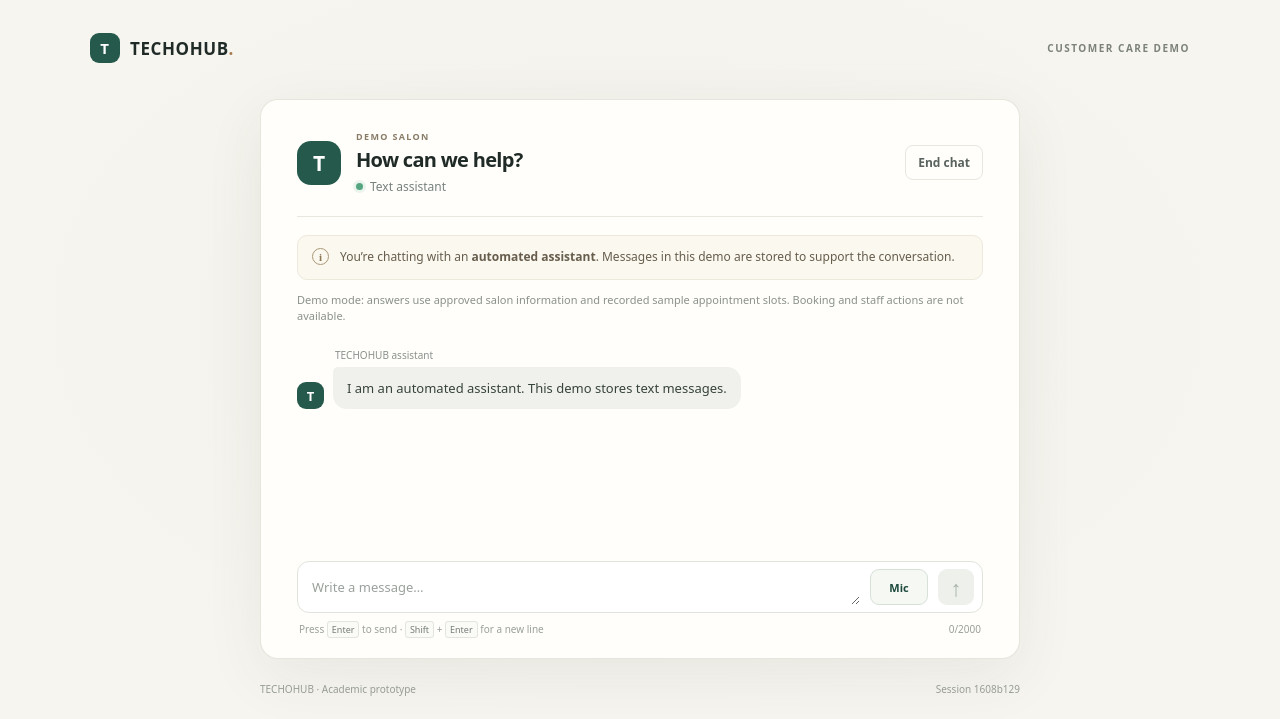
browser text chat › keeps the draft and presents safe feedback when the API rejects a turn
Expected: the text "I am an automated assistant. This demo stores text messages." is shown, [333,367,741,409]
Type "My message" into the text box named "Your message" at coordinates (586, 588), box [312,571,860,605]
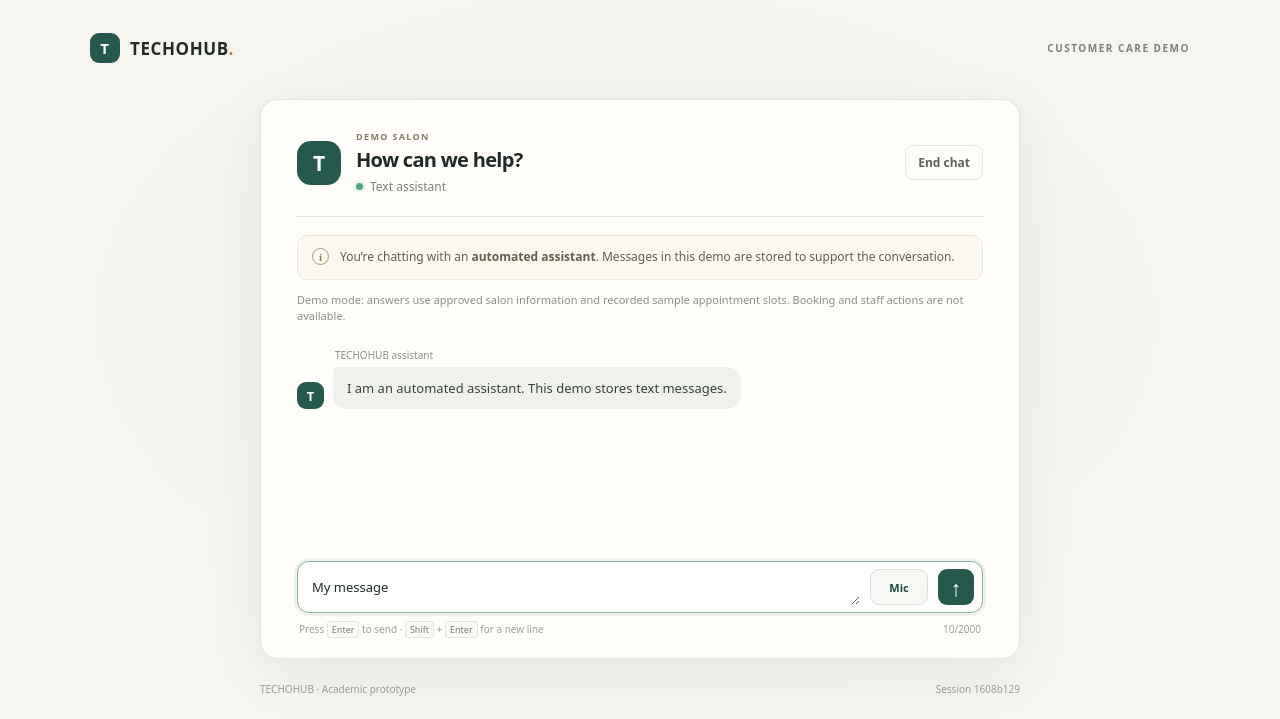
Press Enter
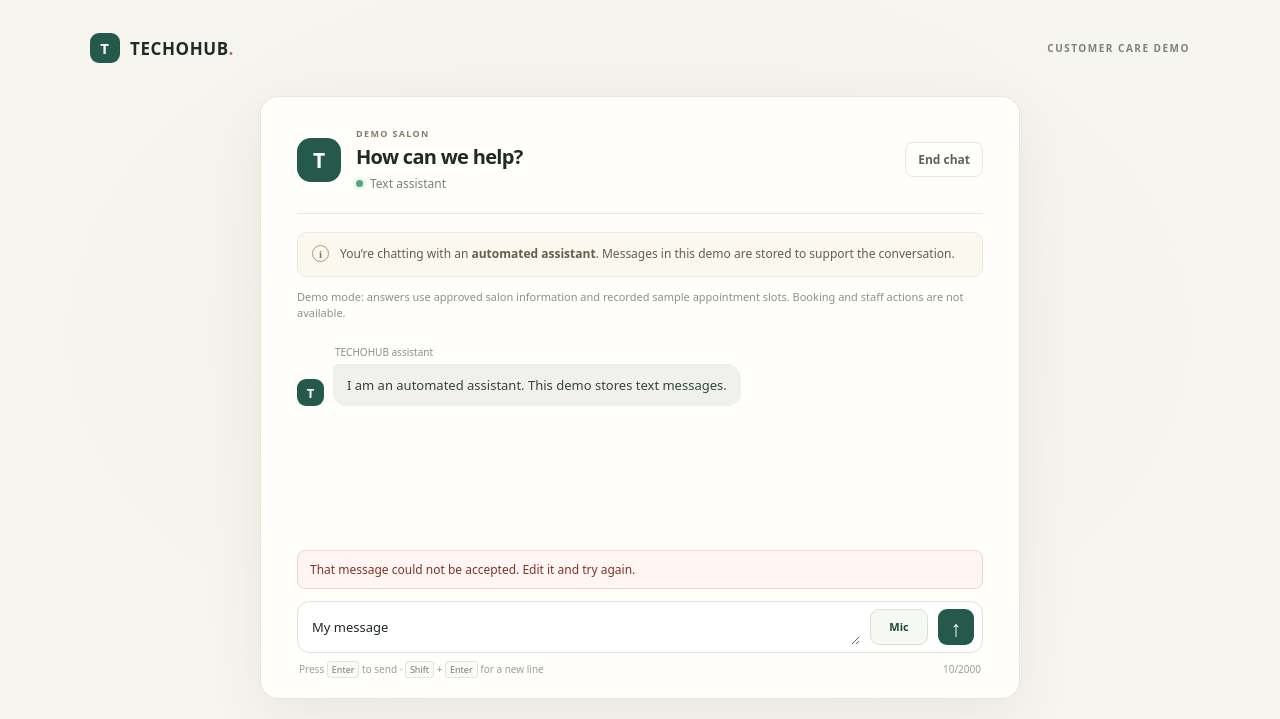
Expected: the message does not show "internal stack trace", [297,550,983,589]
Now the message shows "That message could not be accepted", box [310,561,635,578]
